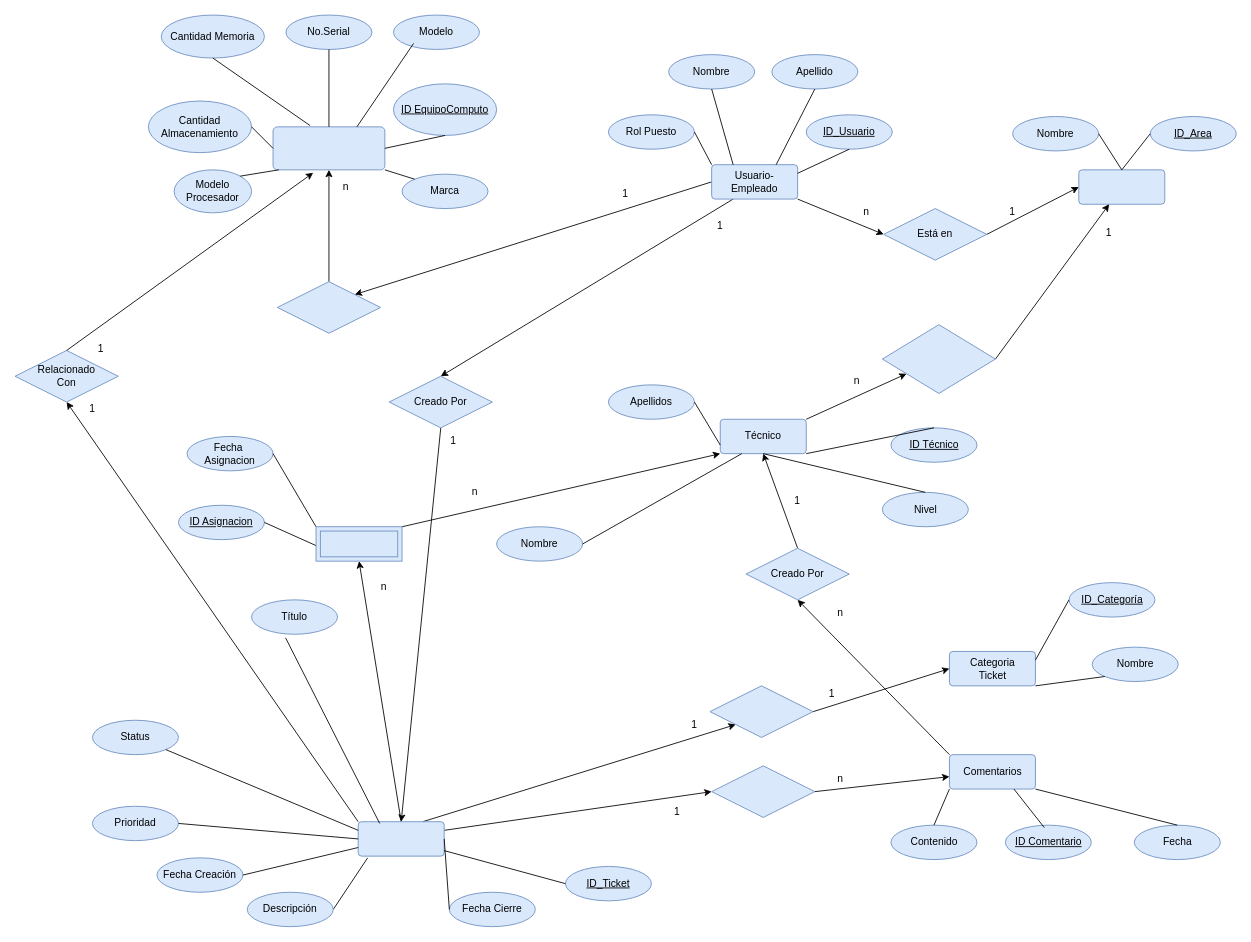
This 1251x942 diagram has some shape labels left out. Here are the shapes that lost their labels. From the top down, the centre of each, then its label:
At [328,148]: "Equipo Computo".
At [1121,186]: "Area".
At [328,307]: "Tiene".
At [938,358]: "Resuelve En".
At [358,543]: "Asignacion".
At [761,711]: "Es de Una".
At [763,791]: "Cuenta Con".
At [400,838]: "Ticket".
